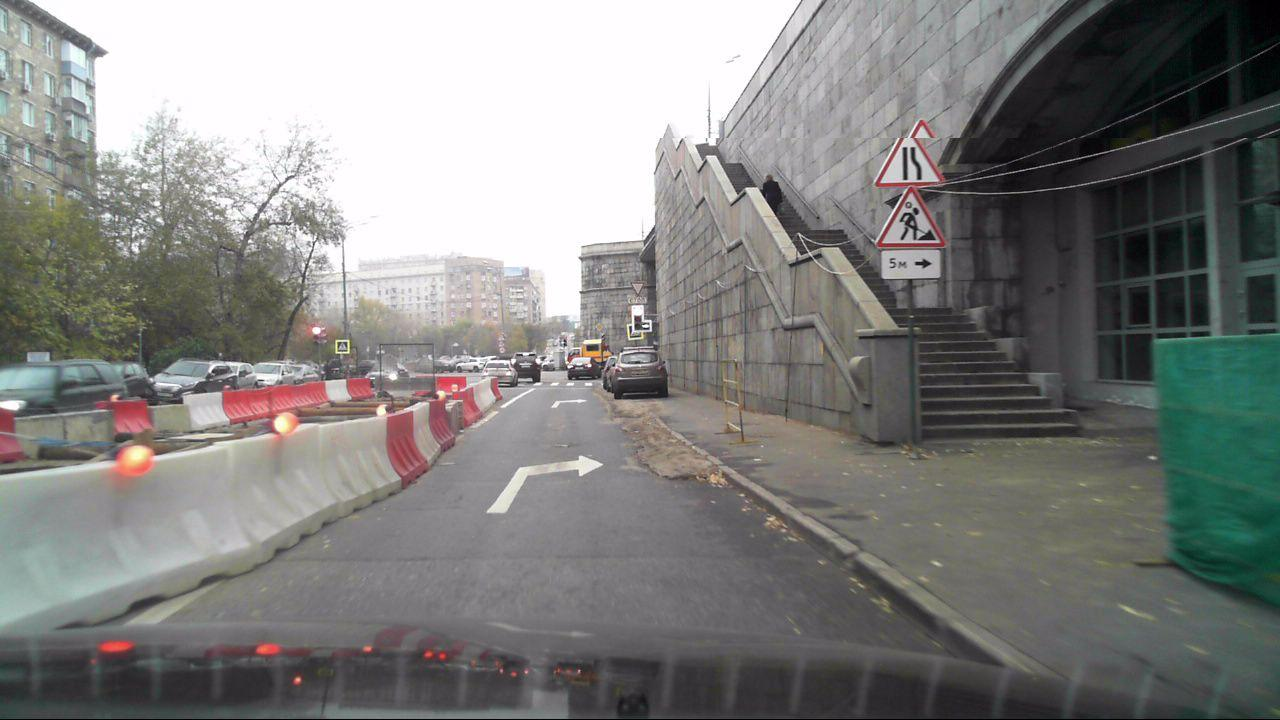1_16: (627, 296, 647, 303)
1_20_2: (876, 123, 943, 183)
1_25: (877, 183, 943, 248)
2_4: (631, 281, 645, 296)
8_1_3: (882, 246, 942, 280)
